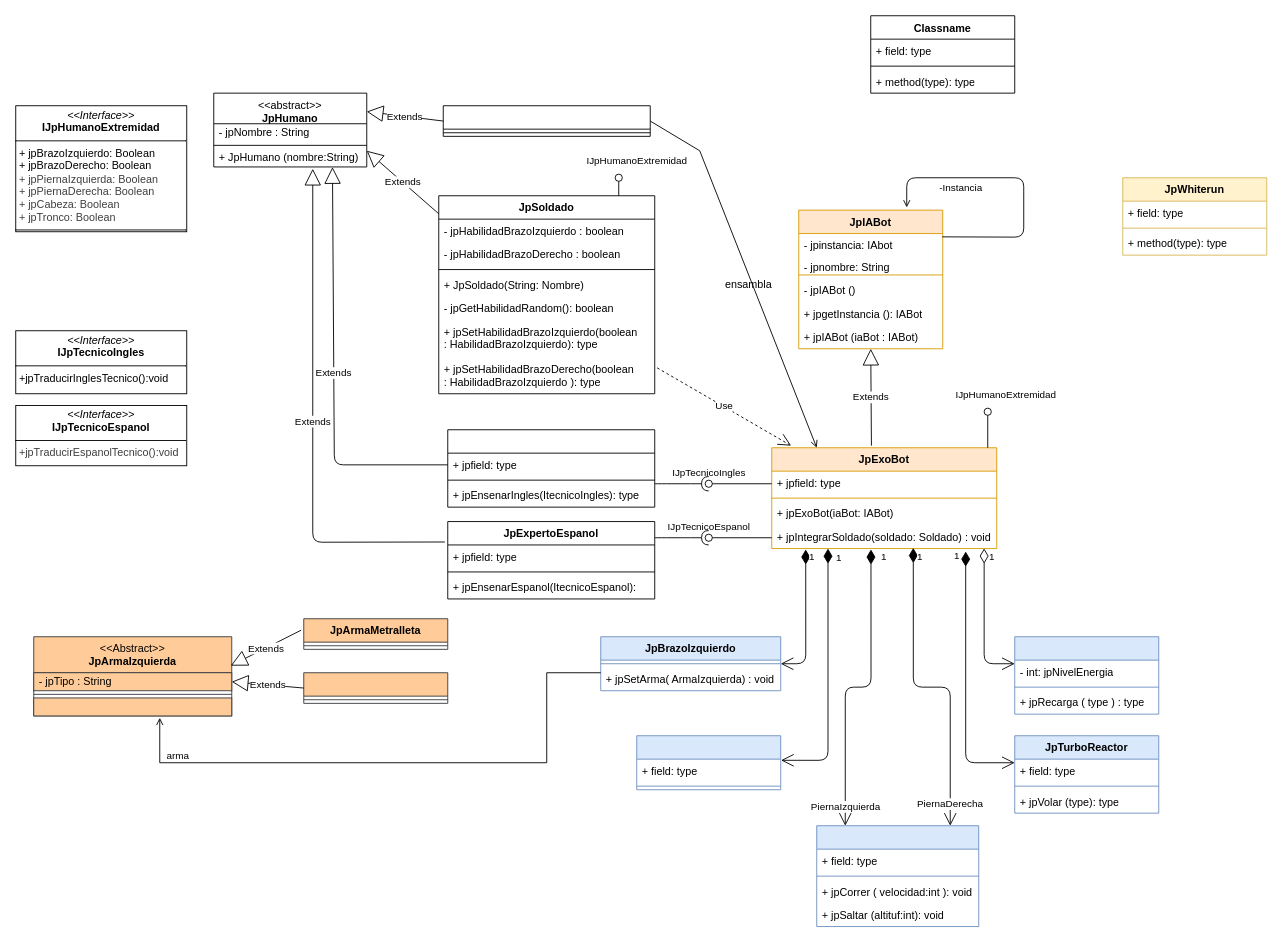
Image size: 1283x945. Some labels were removed from this diagram. The shapes that lost their labels are listed below. From the top down, each one's box as (x1, y1, x2, y2) in pixels, then its label:
(442, 105, 650, 136): JpMecatronico
(447, 429, 655, 507): JpExpertoIngles
(303, 672, 448, 703): JpArmaBazuca
(1014, 636, 1159, 714): JpFuentePoder
(33, 697, 232, 716): + jpDisparar ( cantidadBalas : int) : void
(636, 735, 781, 790): JpBrazoDerecho
(816, 825, 979, 927): JpPierna
